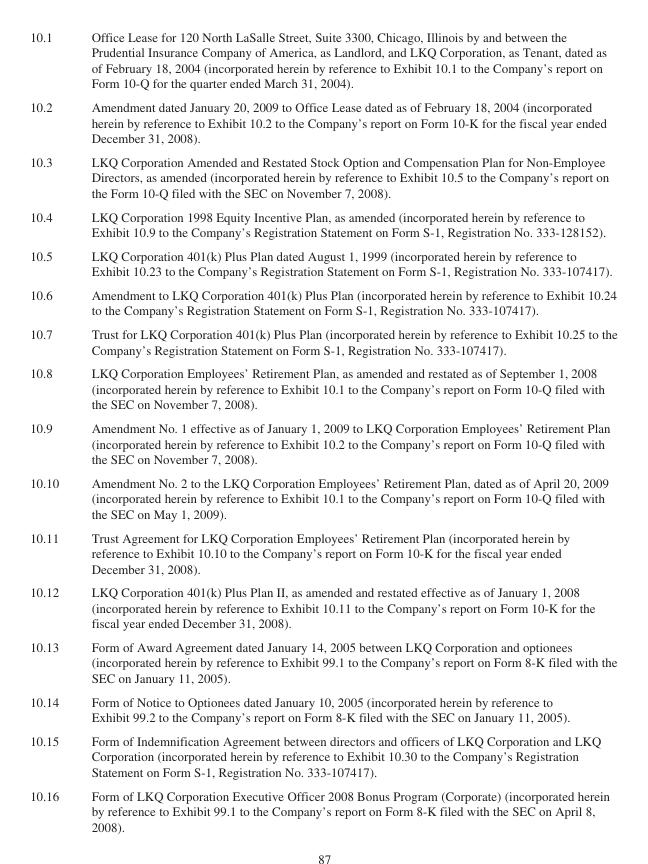table: (29, 29, 616, 833)
table column: (74, 29, 616, 833), (29, 29, 74, 833)
table row: (29, 29, 616, 94), (29, 94, 616, 149), (29, 149, 616, 204), (29, 415, 616, 470), (29, 470, 616, 525), (29, 525, 616, 580), (29, 634, 616, 689), (29, 728, 616, 783), (29, 361, 616, 415), (29, 580, 616, 634), (29, 783, 616, 833), (29, 321, 616, 361), (29, 204, 616, 243), (29, 243, 616, 282), (29, 282, 616, 321), (29, 689, 616, 728)
